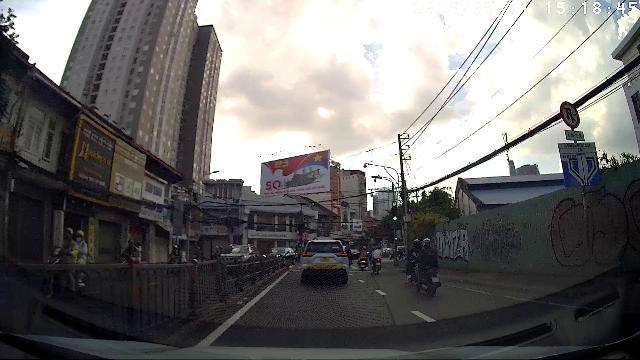124b-cam-oto-quay-dau-xe: (560, 101, 580, 128)
